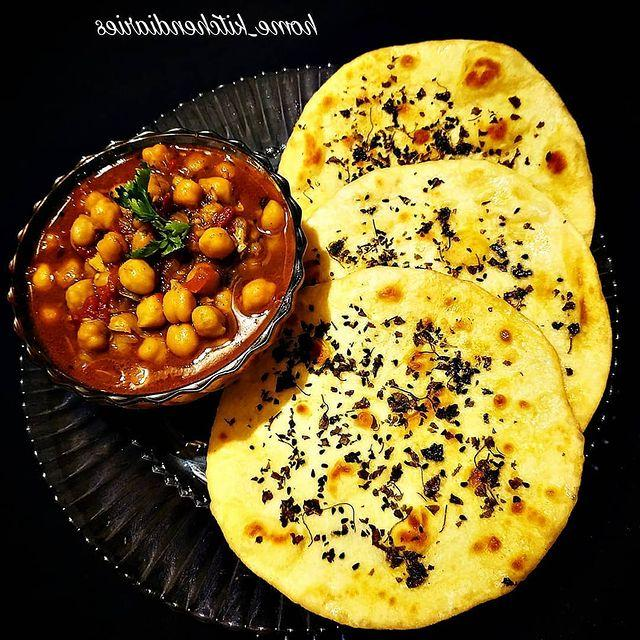Chole: (44, 144, 260, 376)
